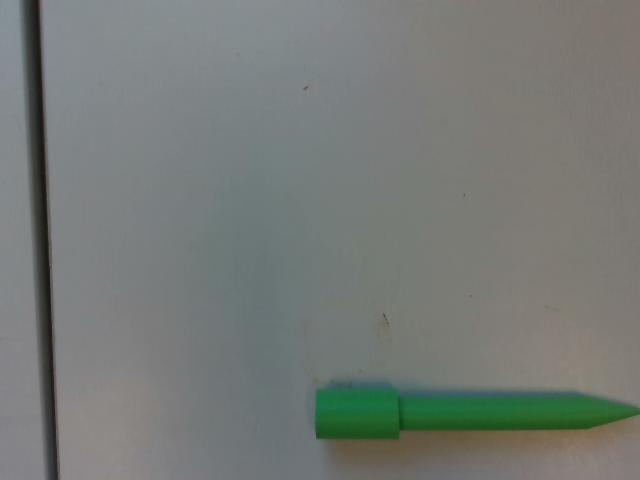Probe: (307, 379, 640, 446)
